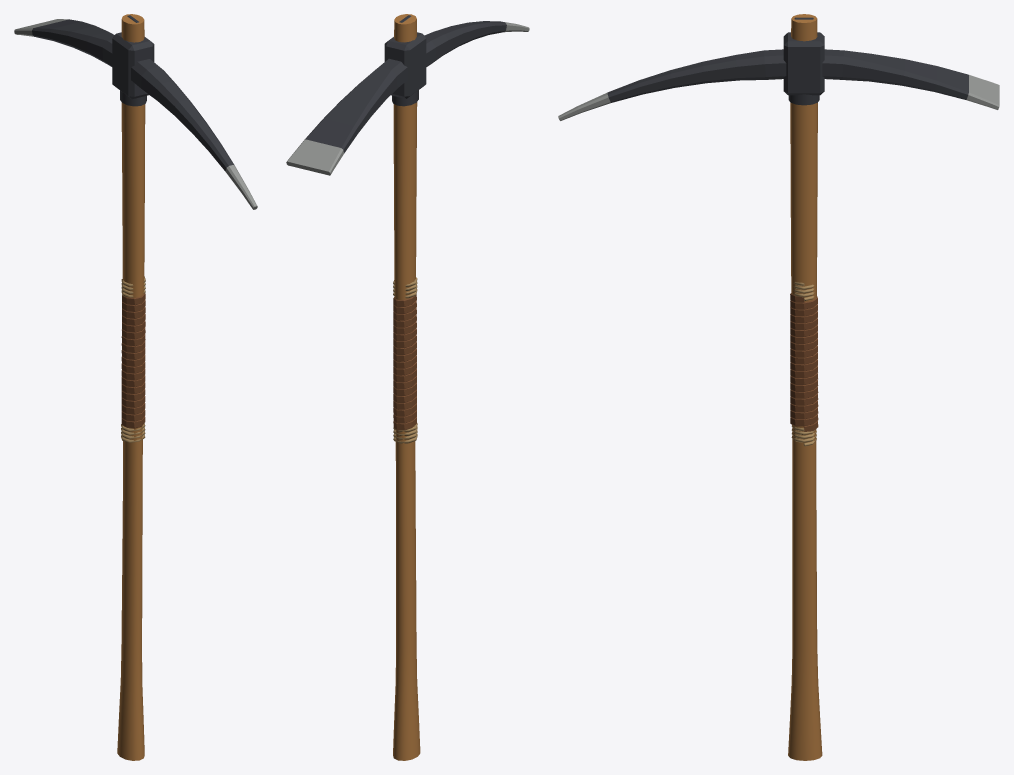
File: tool_pickaxe.fbx
The picture shows the model from 3 angles, left to right: view 1: azimuth 30°, elevation 25°; view 2: azimuth 150°, elevation 25°; view 3: azimuth 270°, elevation 25°; orthographic projection.
Visible parts, largest first — view 1: Tool_Pickaxe_Handle, Tool_Pickaxe_Head, Tool_Pickaxe_Wrap; view 2: Tool_Pickaxe_Handle, Tool_Pickaxe_Head, Tool_Pickaxe_Wrap; view 3: Tool_Pickaxe_Handle, Tool_Pickaxe_Head, Tool_Pickaxe_Wrap.
Part boxes in pixels (x1,y1,x2,y2): Tool_Pickaxe_Handle: [117, 14, 146, 760]; Tool_Pickaxe_Head: [14, 15, 257, 209]; Tool_Pickaxe_Wrap: [121, 276, 145, 442]; Tool_Pickaxe_Handle: [392, 14, 420, 760]; Tool_Pickaxe_Head: [286, 15, 529, 175]; Tool_Pickaxe_Wrap: [393, 277, 417, 443]; Tool_Pickaxe_Handle: [788, 14, 822, 760]; Tool_Pickaxe_Head: [558, 17, 999, 120]; Tool_Pickaxe_Wrap: [790, 282, 818, 446].
Size of the model in its own units: 9.2 by 147 by 79.75.
